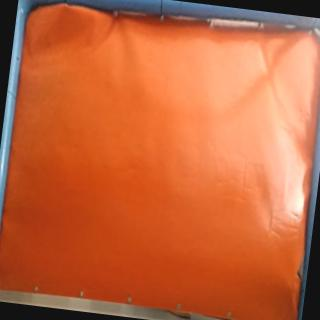Hit-hRxx: (282, 280, 300, 296)
